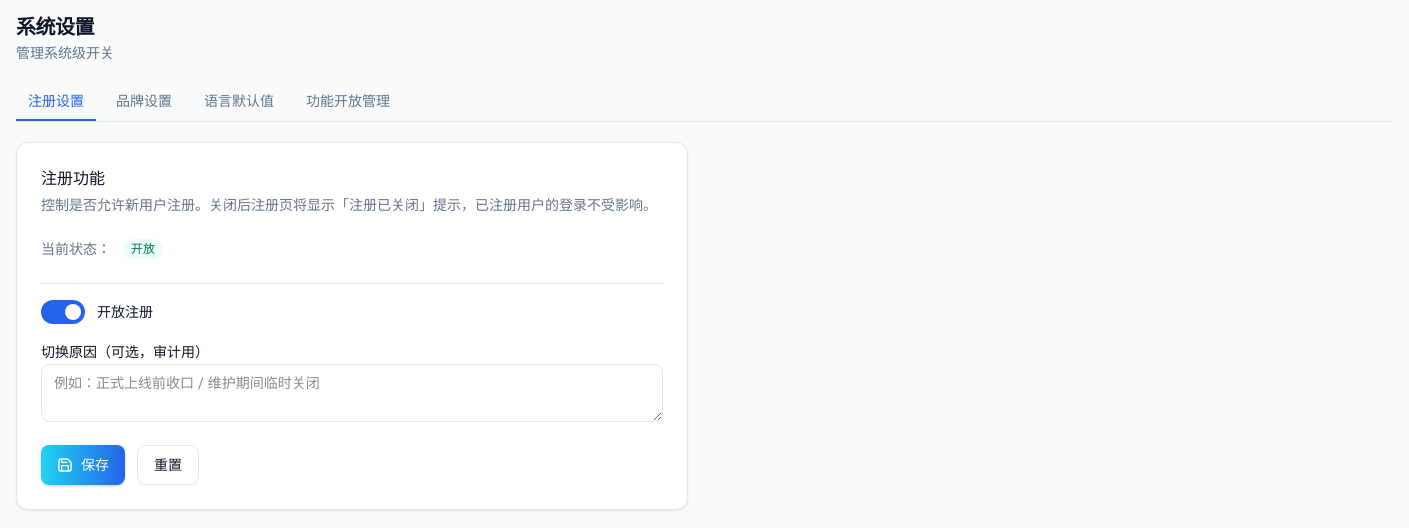
it: SettingsPage - registration switch › shows the latest action, operator, time, and reason for each changed feature
Click the button "功能开放管理".
click(348, 102)  # box [294,83,402,121]
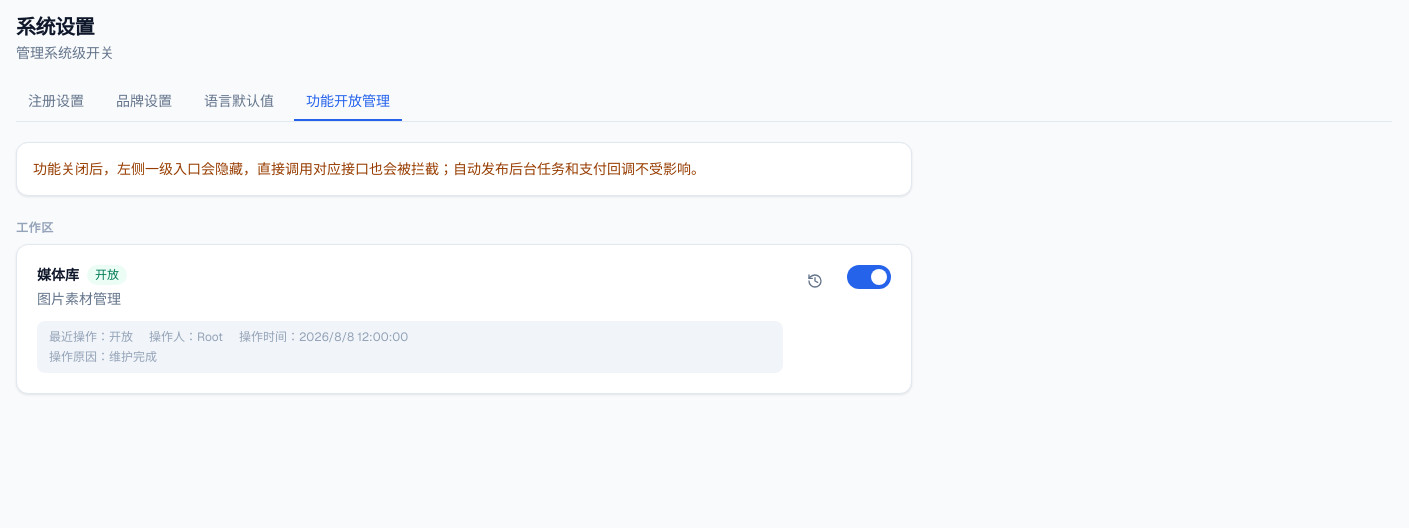
Expected: the text "最近操作：开放" is shown, [49,329,133,345]
Expected: the text "操作人：Root" is shown, [149,329,223,345]
Expected: the text "操作时间：2026/8/8 12:00:00" is shown, [239,329,408,345]
